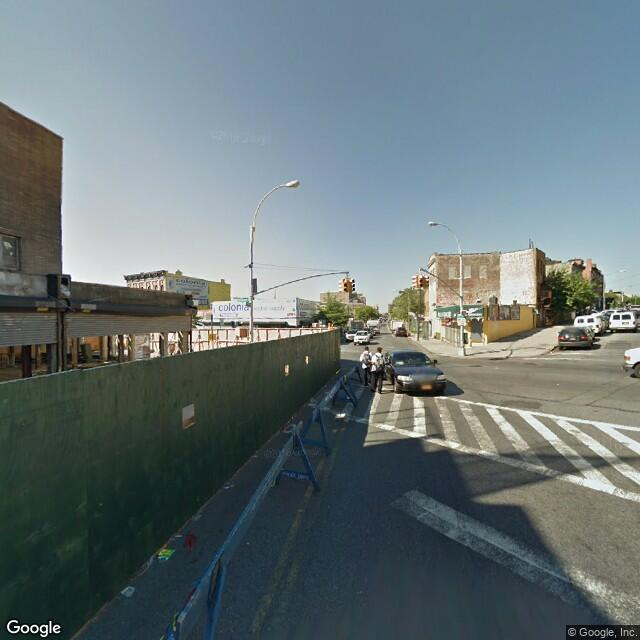litter: (151, 539, 179, 560), (114, 585, 142, 598)
